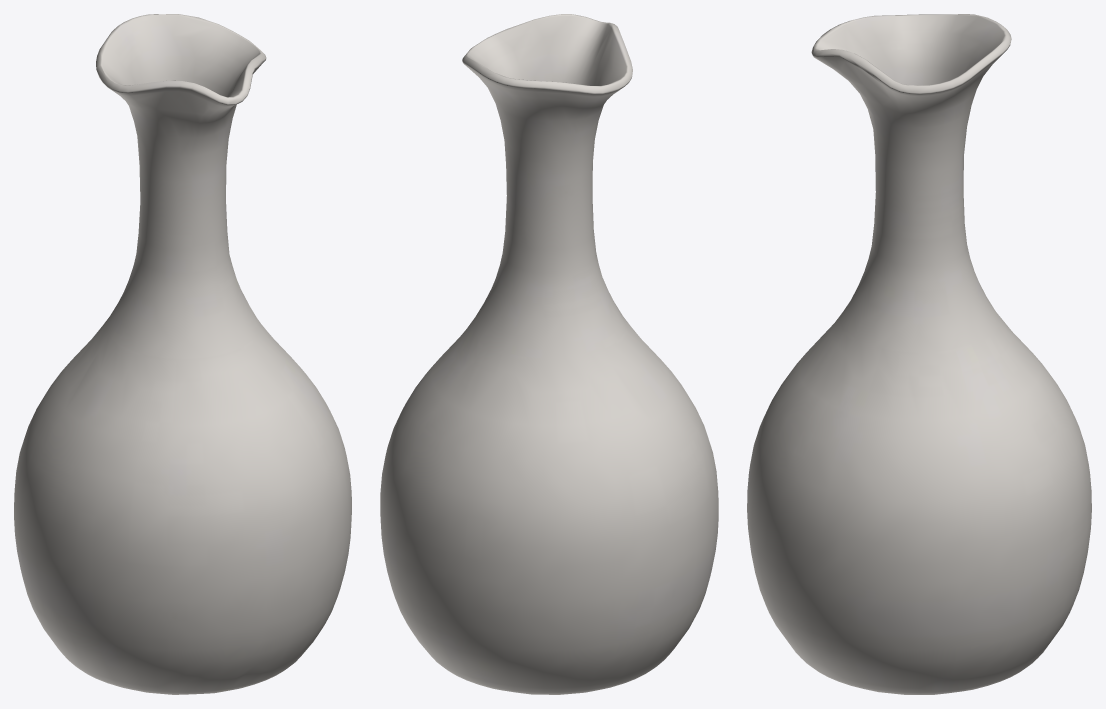
Rendered from ceramic_vase_01.glb.
The picture shows the model from 3 angles, left to right: view 1: azimuth 30°, elevation 25°; view 2: azimuth 150°, elevation 25°; view 3: azimuth 270°, elevation 25°; orthographic projection.
Parts seen in each view (by area): view 1: ceramic_vase_01; view 2: ceramic_vase_01; view 3: ceramic_vase_01.
Boxes of the visible parts, x1,y1,x2,y2 form: ceramic_vase_01: (14, 14, 351, 694); ceramic_vase_01: (380, 14, 718, 694); ceramic_vase_01: (747, 14, 1091, 694).
Bounding box in the file's own units: 0.2036 × 0.4003 × 0.2036.
Materials: 1 (1 with a texture image).
